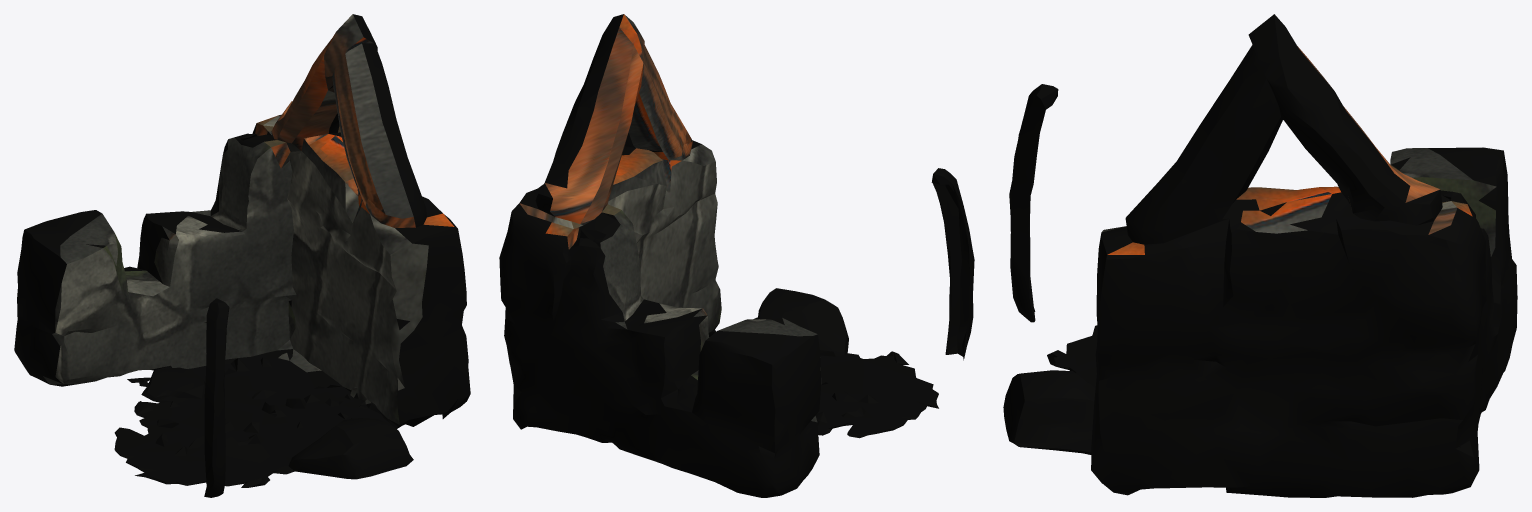
Rendered from 色付き砦.fbx.
The picture shows the model from 3 angles, left to right: view 1: azimuth 30°, elevation 25°; view 2: azimuth 150°, elevation 25°; view 3: azimuth 270°, elevation 25°; orthographic projection. The views are drawn at different scales.
Parts seen in each view (by area): view 1: mesh; view 2: mesh; view 3: mesh.
Boxes of the visible parts, x1,y1,x2,y2 form: mesh: (14,14,470,497); mesh: (499,14,974,497); mesh: (1003,14,1517,497).
Bounding box in the file's own units: 0.9032 × 0.9877 × 1.
1 material, 1 textured.
